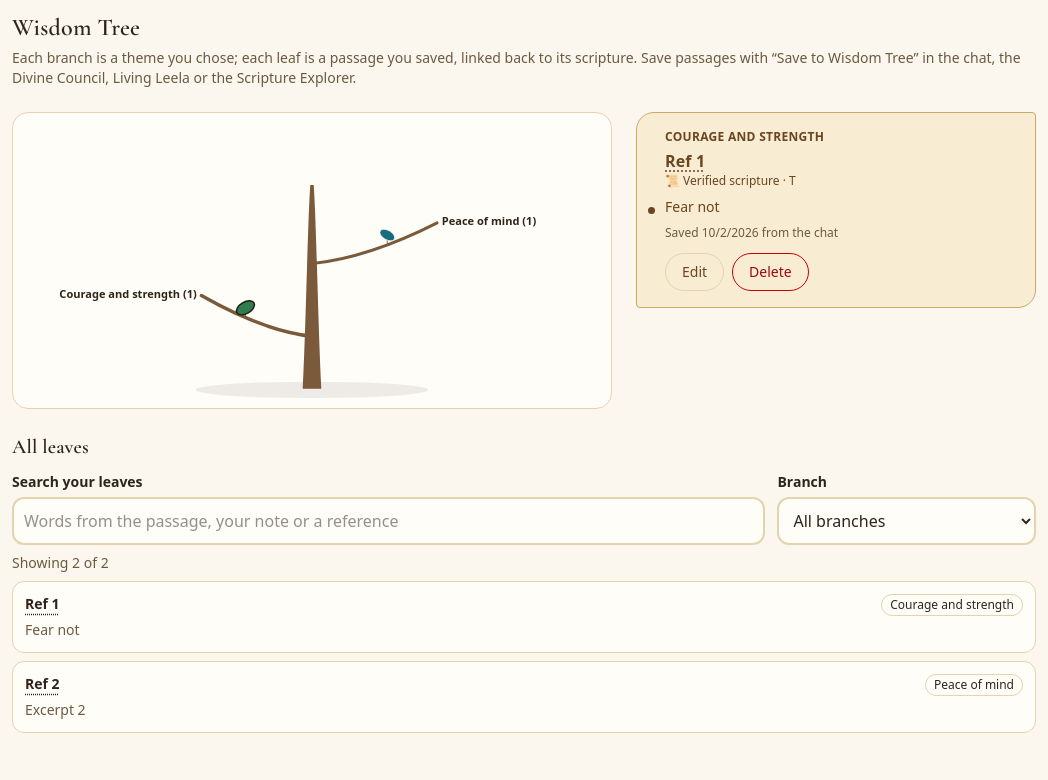
Test: Wisdom Tree › searches and filters the list
The image size is (1048, 780).
In the search field labelled "Search your leaves": (389, 521) [12,497,766,545], type "fear"
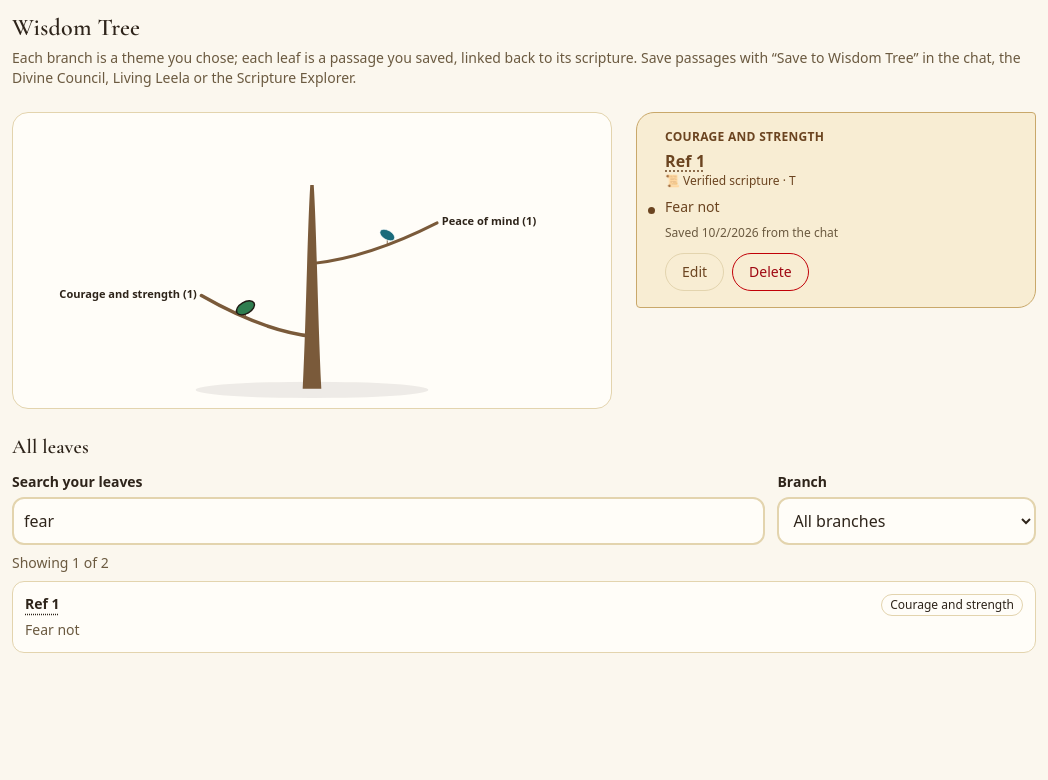
expect the number of list items is 1: met, box [12,581,1036,653]
Clear the search field labelled "Search your leaves": (389, 521) [12,497,766,545]
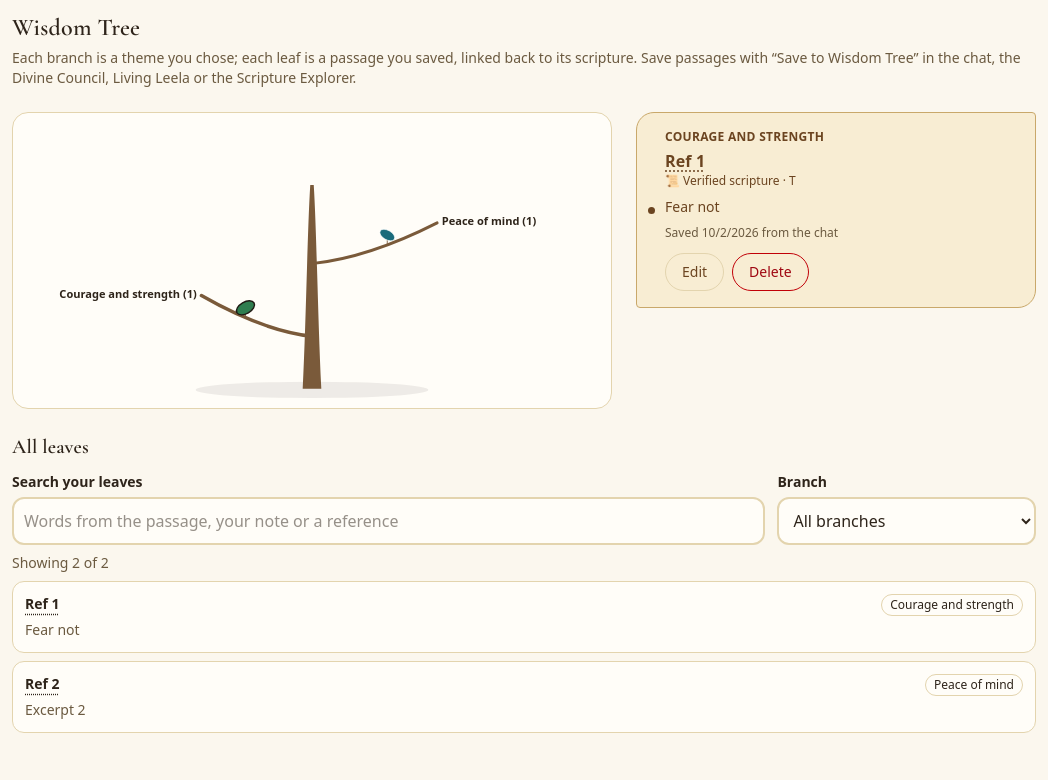
Select "Peace of mind" in the dropdown labelled "Branch": (907, 521) [778,497,1036,545]
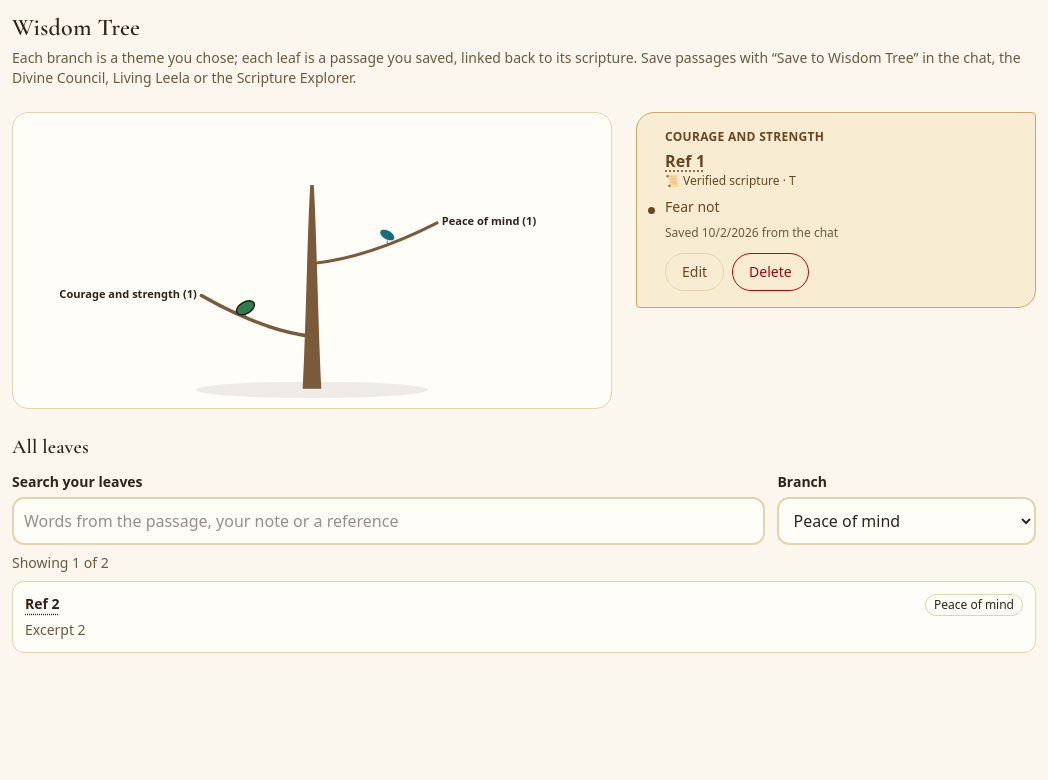
expect the number of list items is 1: met, box [12,581,1036,653]
expect the text "Showing 1 of 2" is shown: met, box [12,553,109,572]
